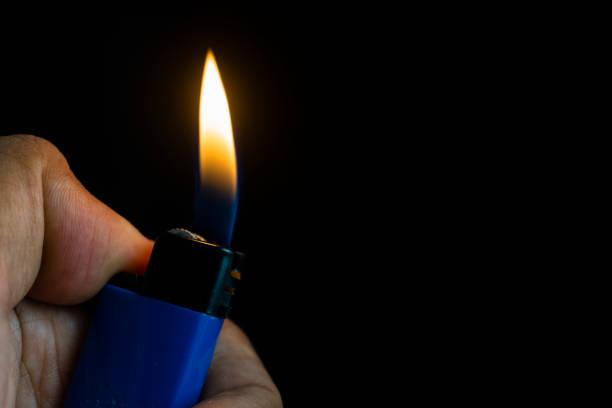Fire: (197, 44, 246, 239)
